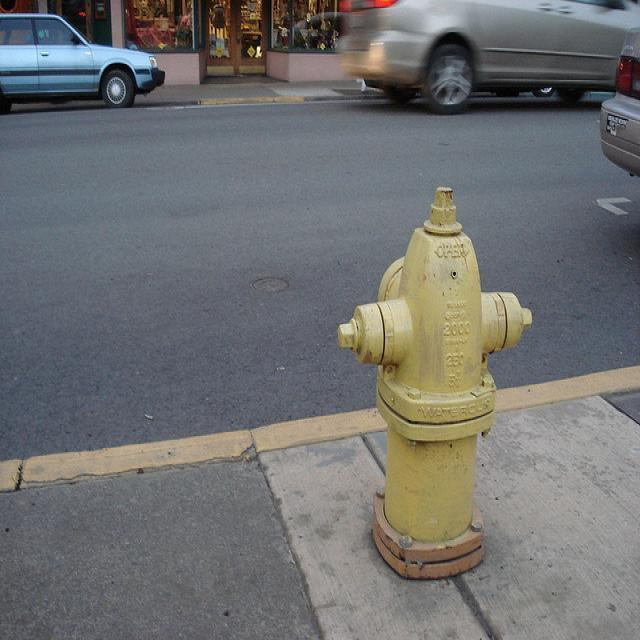fire_hydrant: (335, 185, 533, 578)
